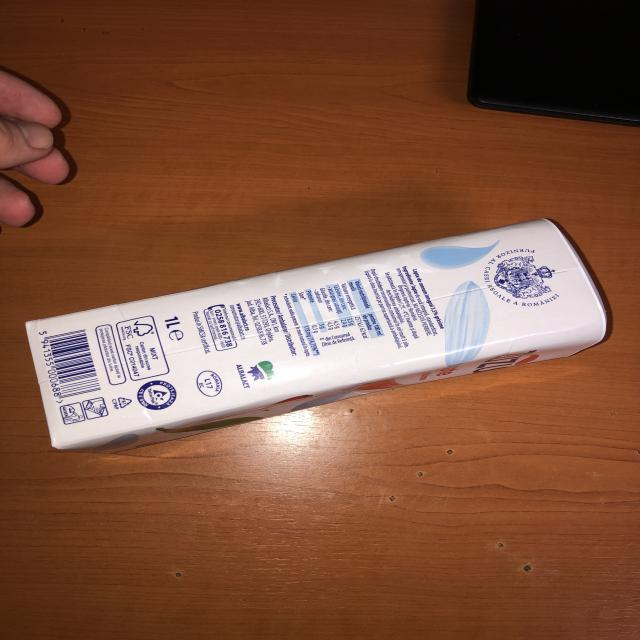milk: (26, 218, 613, 456)
